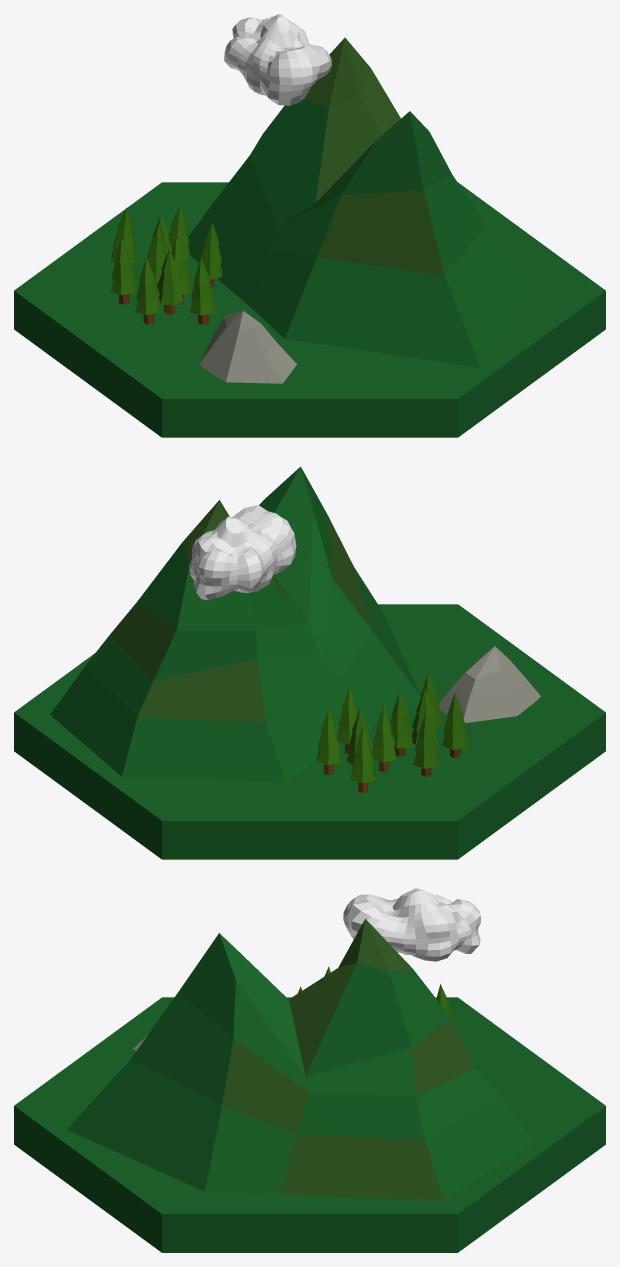
File: Mountain.fbx
3 views of the same model, one above another, from view 1: azimuth 30°, elevation 25°; view 2: azimuth 150°, elevation 25°; view 3: azimuth 270°, elevation 25° (orthographic).
Visible parts, largest first — view 1: Forest; view 2: Forest; view 3: Forest.
Part boxes in pixels (x1,y1,x2,y2): Forest: (14, 14, 605, 437); Forest: (14, 466, 605, 859); Forest: (14, 888, 605, 1252).
Bounding box in the file's own units: 173 × 99.71 × 200.
